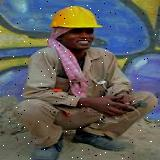Helmet: (51, 6, 104, 32)
